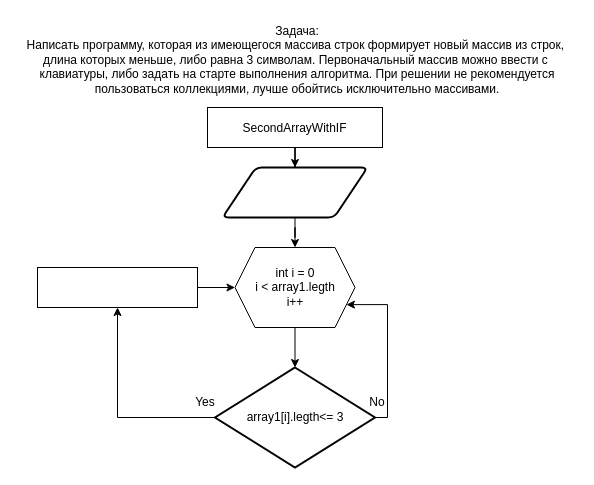
Image size: 594x485. Some labels were removed from this diagram. The shapes that lost their labels are listed below. From the top down, each one's centre as x and y in pixels, then its label:
At (x=294, y=192): "string[ ] array 1 string[ ] array 2 int count = 0".
At (x=117, y=287): "array2[count] = array1[i] count++".
